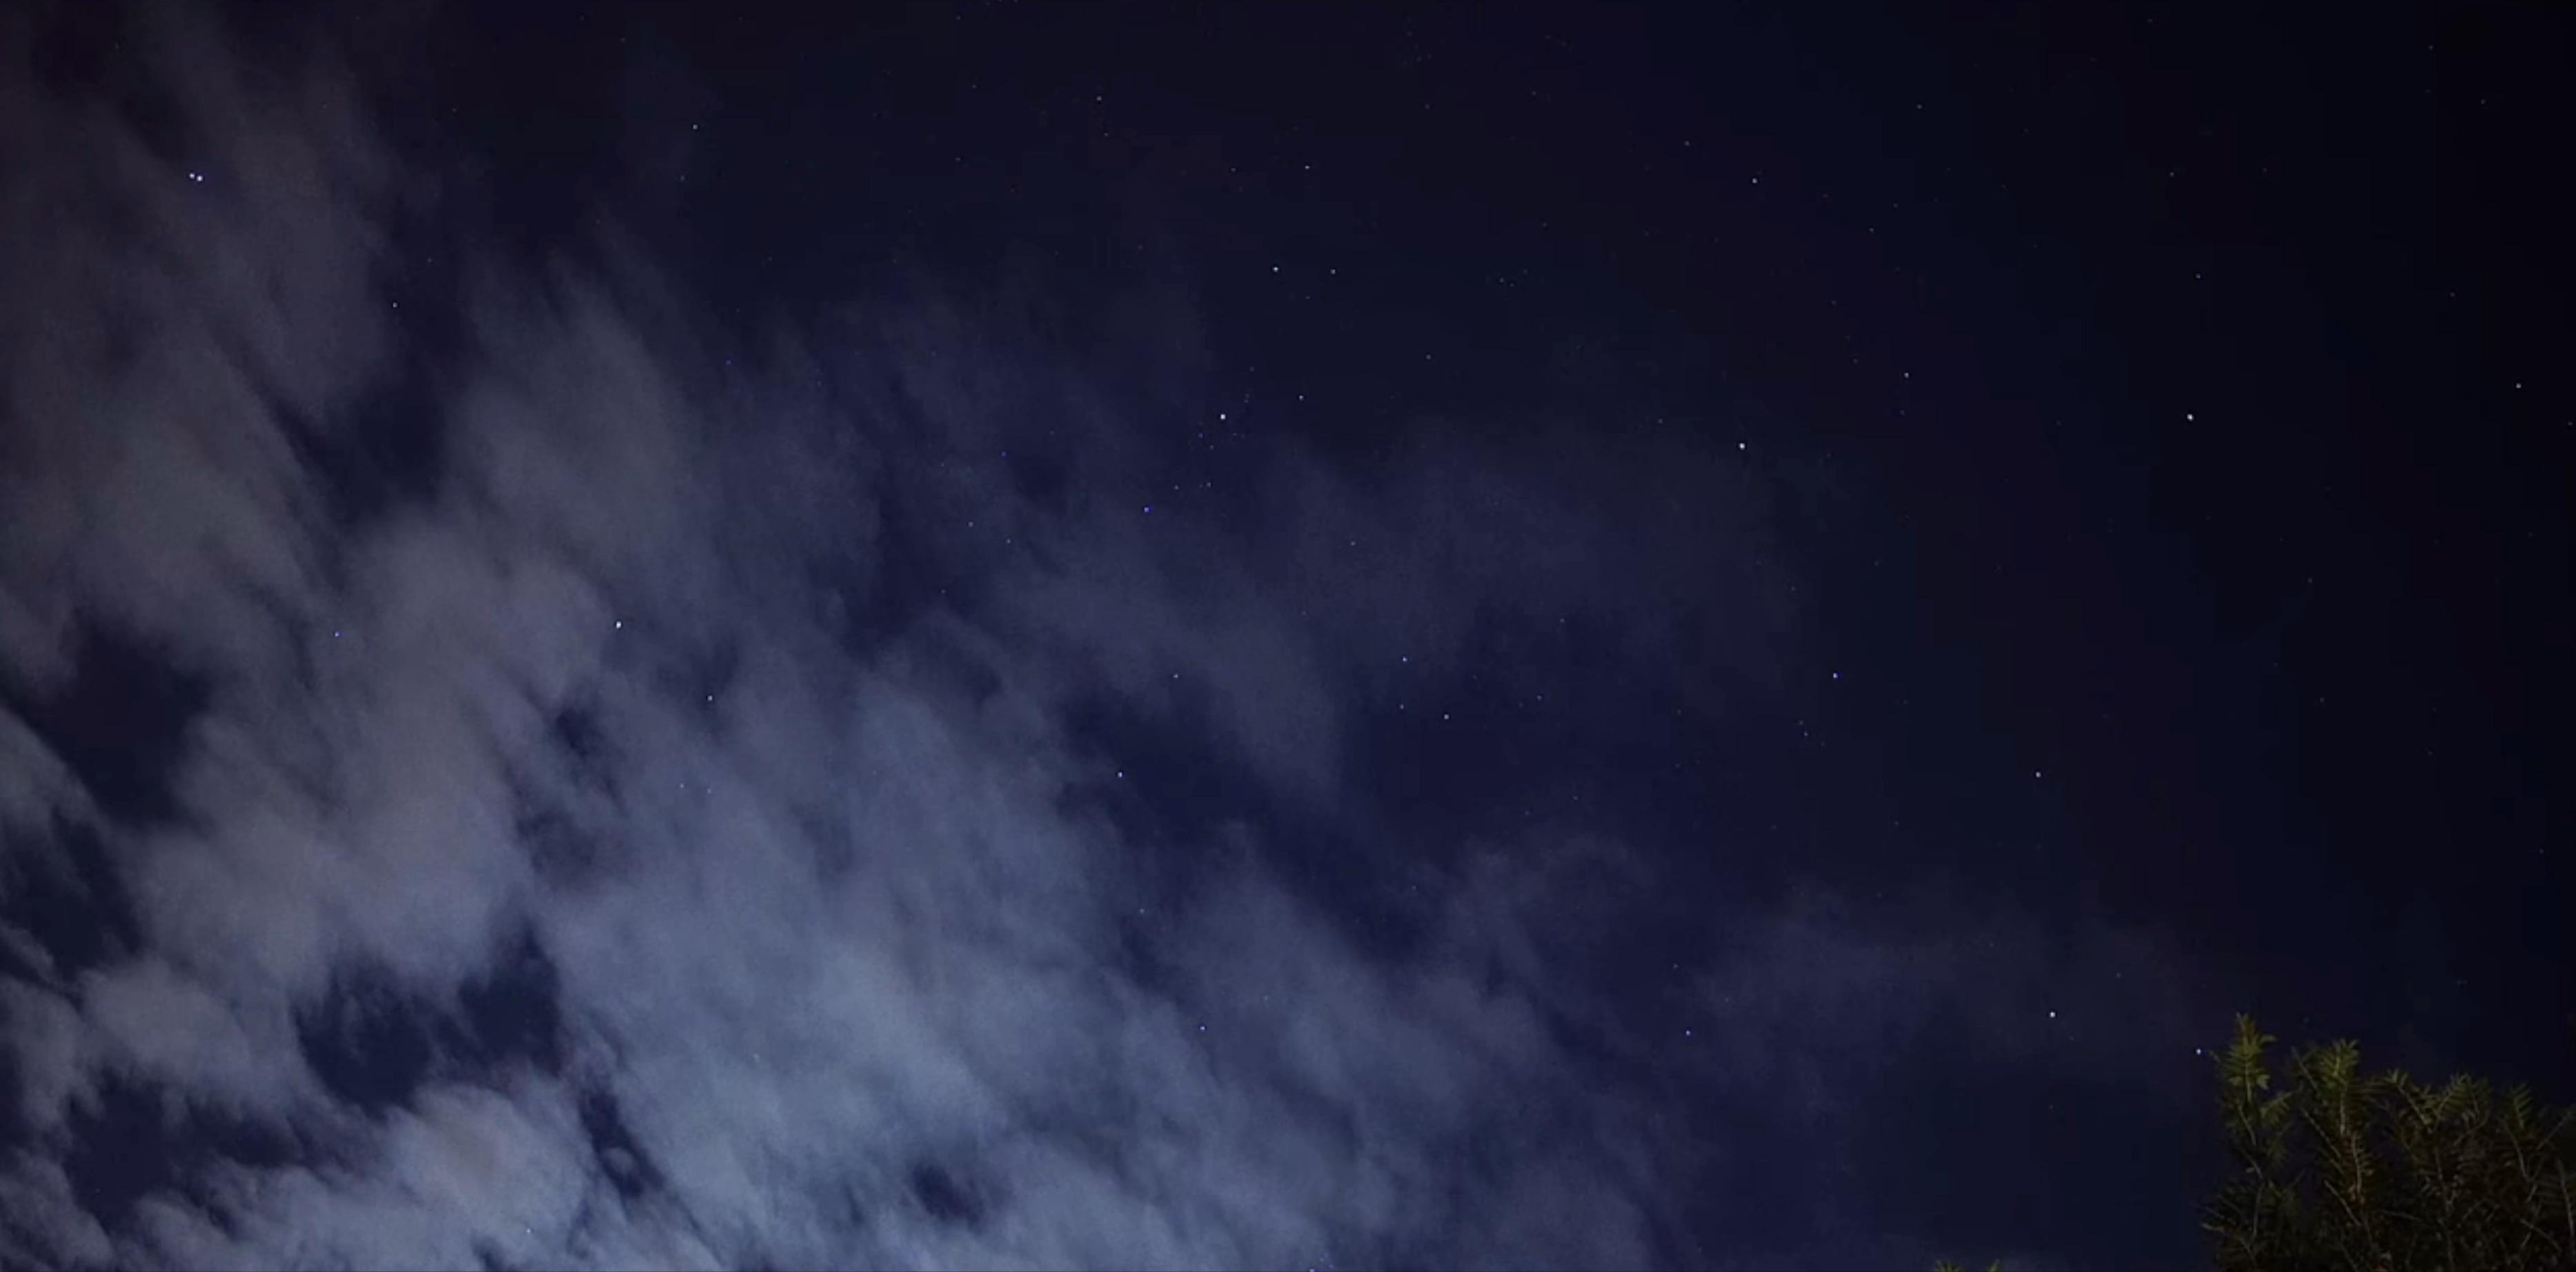Plane: (172, 163, 214, 189)
